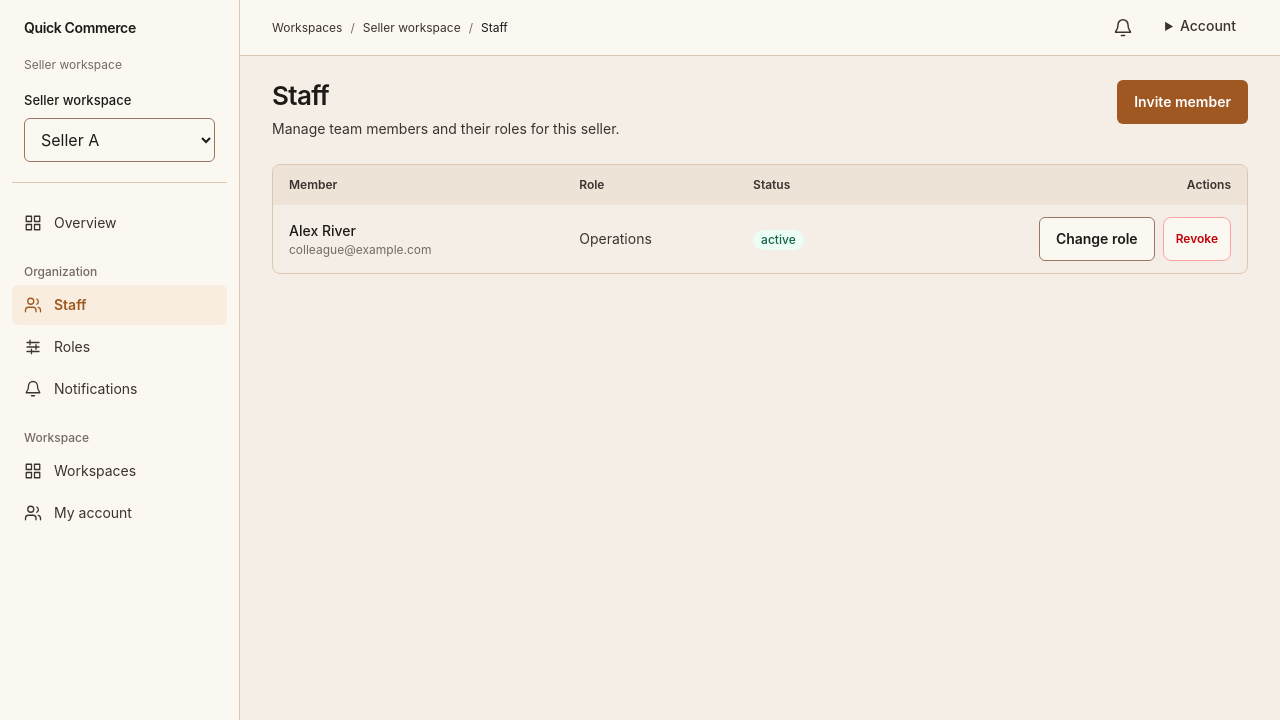
accessible operational workflows › labels invitation and inline staff role selection without losing server capability boundaries
Step 1. Click the button "Invite member" → (1183, 102), box [1117,80,1248,124]
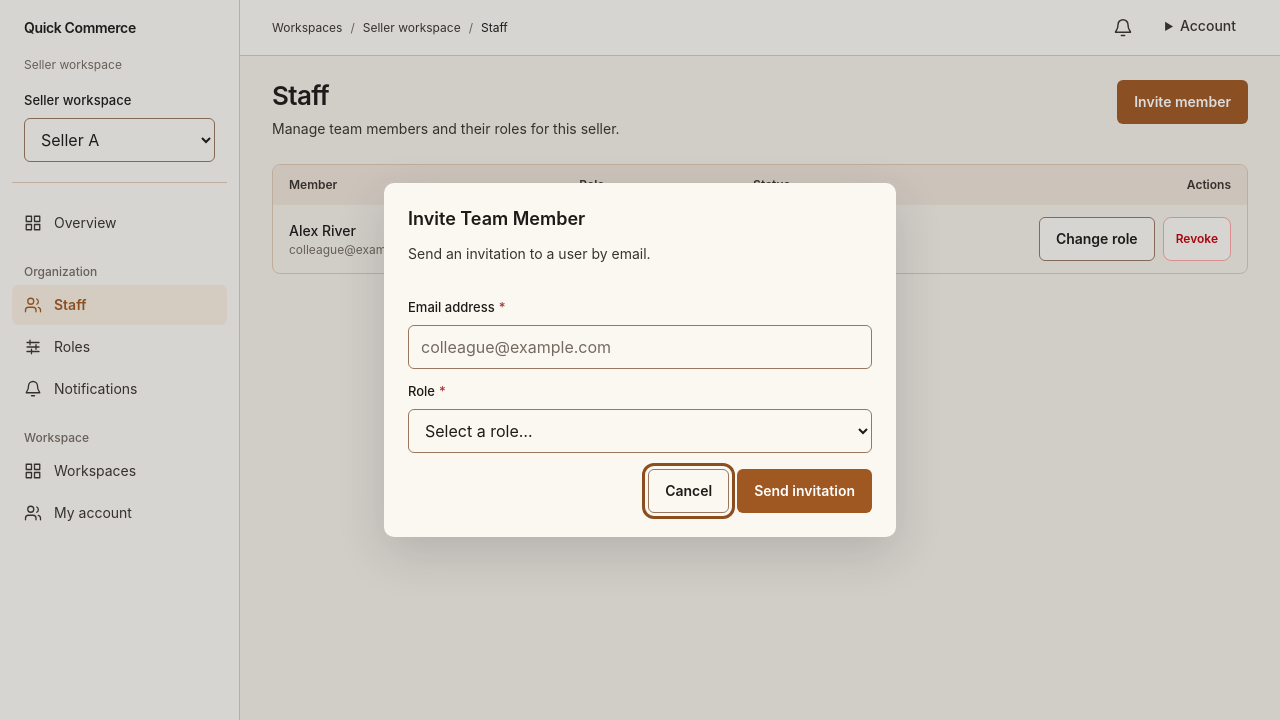
Step 2. Select "Operations" in the dropdown labelled "Role" → (640, 431), box [408,409,872,453]
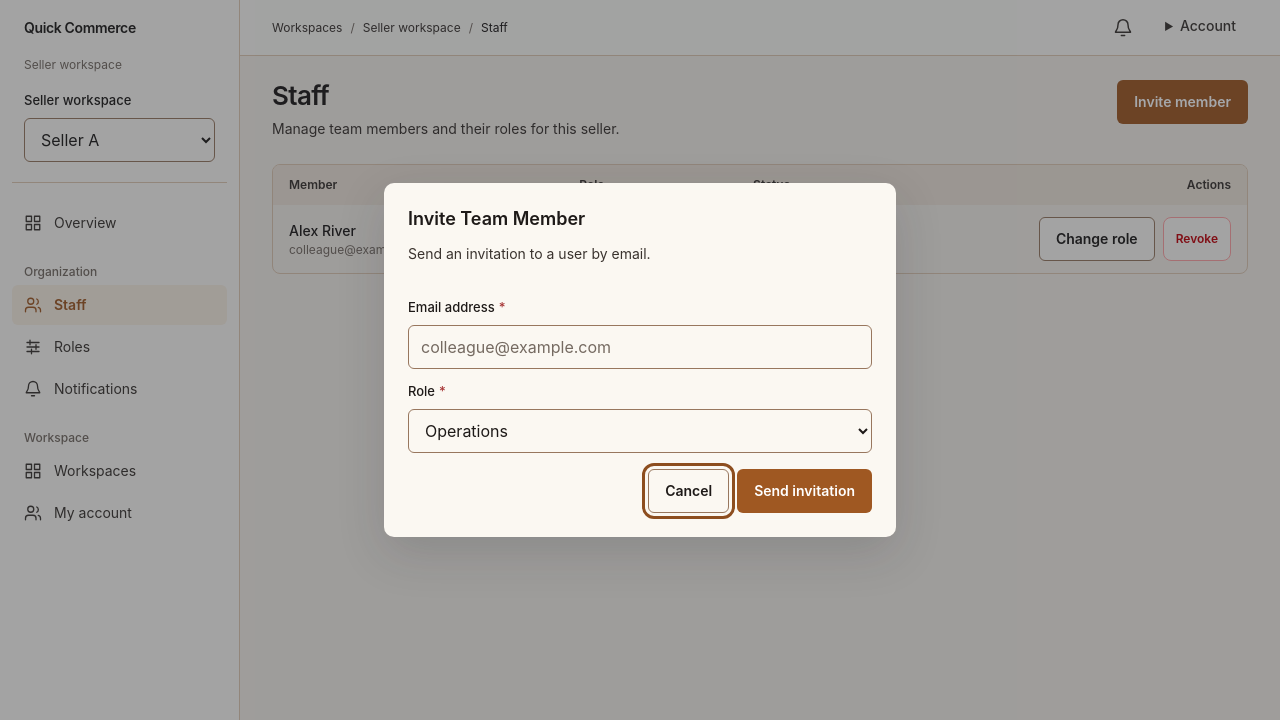
Step 3. Click the button "Cancel" → (689, 491), box [648,469,729,513]
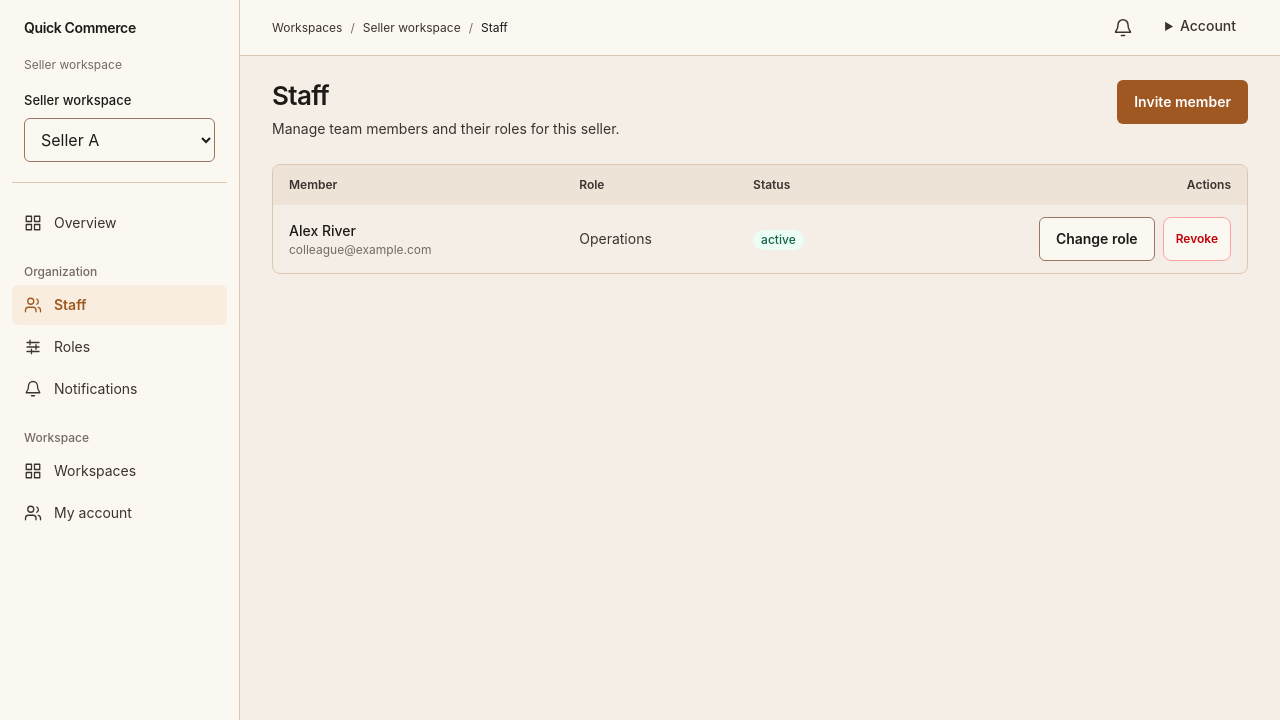
Step 4. Click the button "Change role" → (1097, 239), box [1039,217,1155,261]
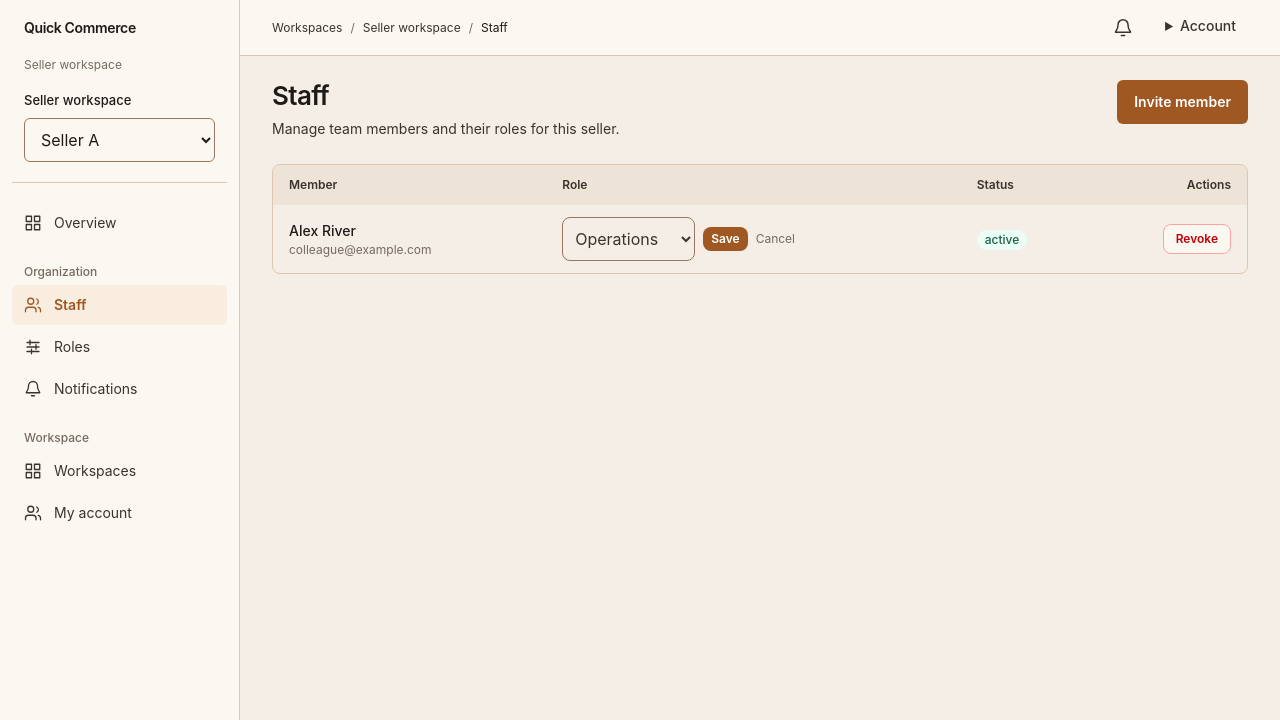
Now the dropdown named "Role for colleague@example.com" is shown, box [562,217,695,261]
